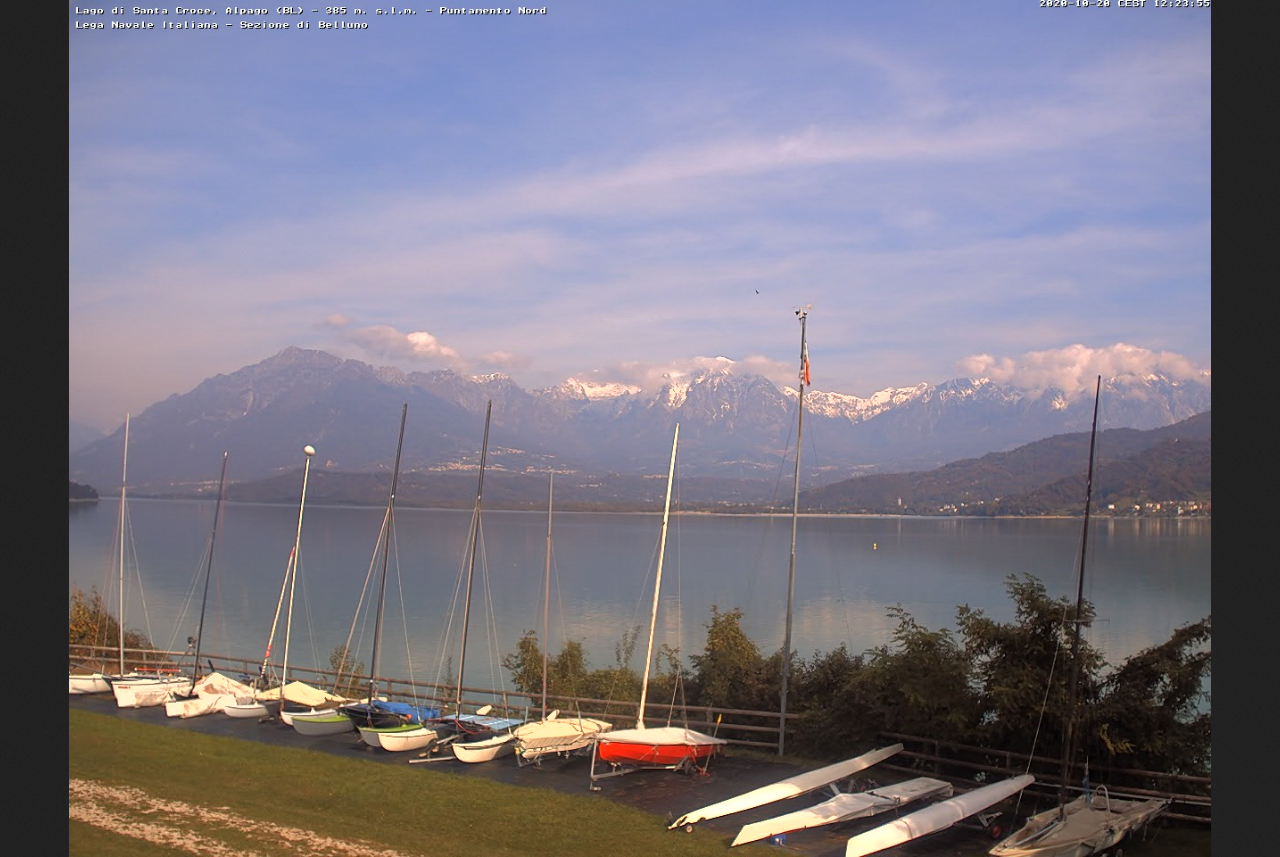no: (794, 332, 813, 387)
